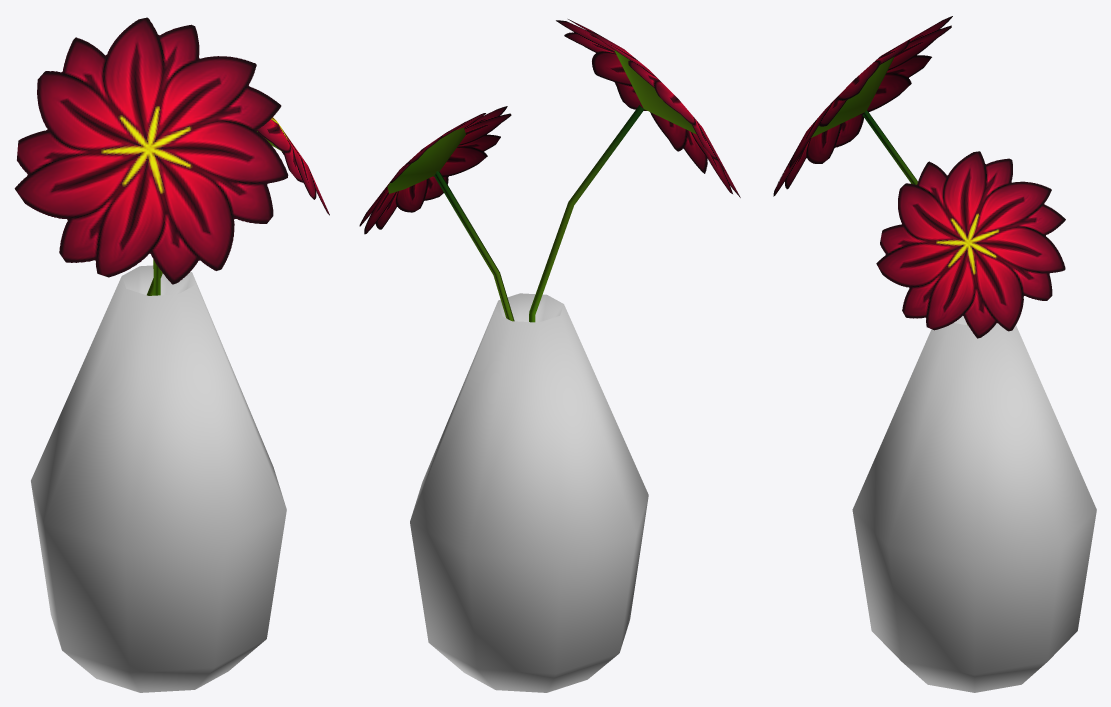
File: Flowers_A_4.FBX
The picture shows the model from 3 angles, left to right: view 1: azimuth 30°, elevation 25°; view 2: azimuth 150°, elevation 25°; view 3: azimuth 270°, elevation 25°; orthographic projection. The views are drawn at different scales.
Visible parts, largest first — view 1: Vase_And_Flowers; view 2: Vase_And_Flowers; view 3: Vase_And_Flowers.
Boxes of the visible parts, x1,y1,x2,y2 form: Vase_And_Flowers: (14, 17, 329, 692); Vase_And_Flowers: (359, 19, 740, 692); Vase_And_Flowers: (773, 16, 1096, 692).
Size of the model in its own units: 80.48 by 155 by 73.7.
